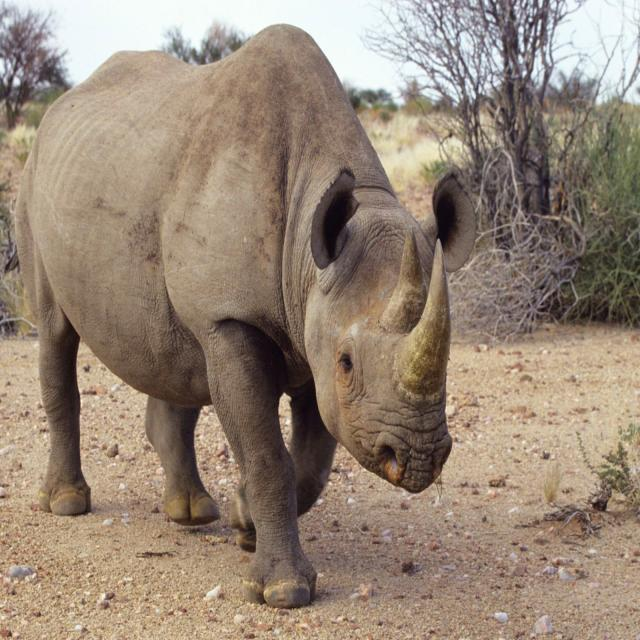rhinoceros: (14, 25, 476, 607)
